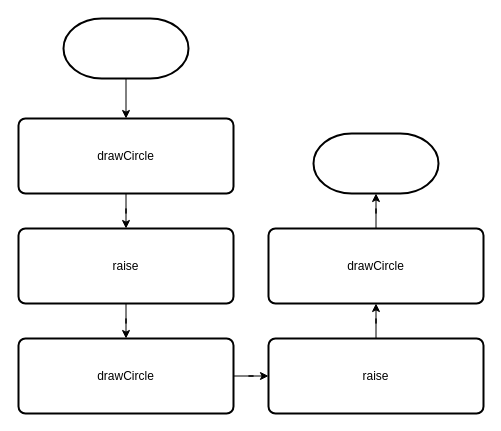
The diagram is 501 pixels wide and 431 high, and some of its shapes have lost their labels. The shapes that lost their labels are listed below. From the top down, each one's centre as x and y in pixels, then its label:
[125,48]: start
[375,163]: end
